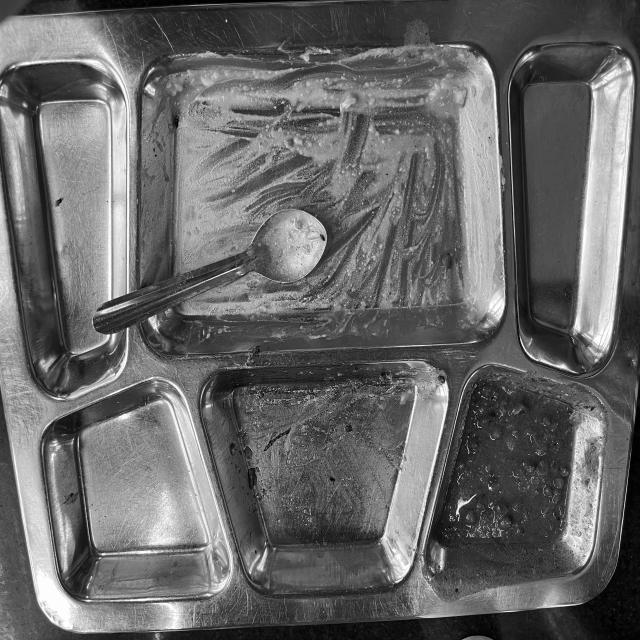Empty-Plate: (5, 28, 611, 593)
